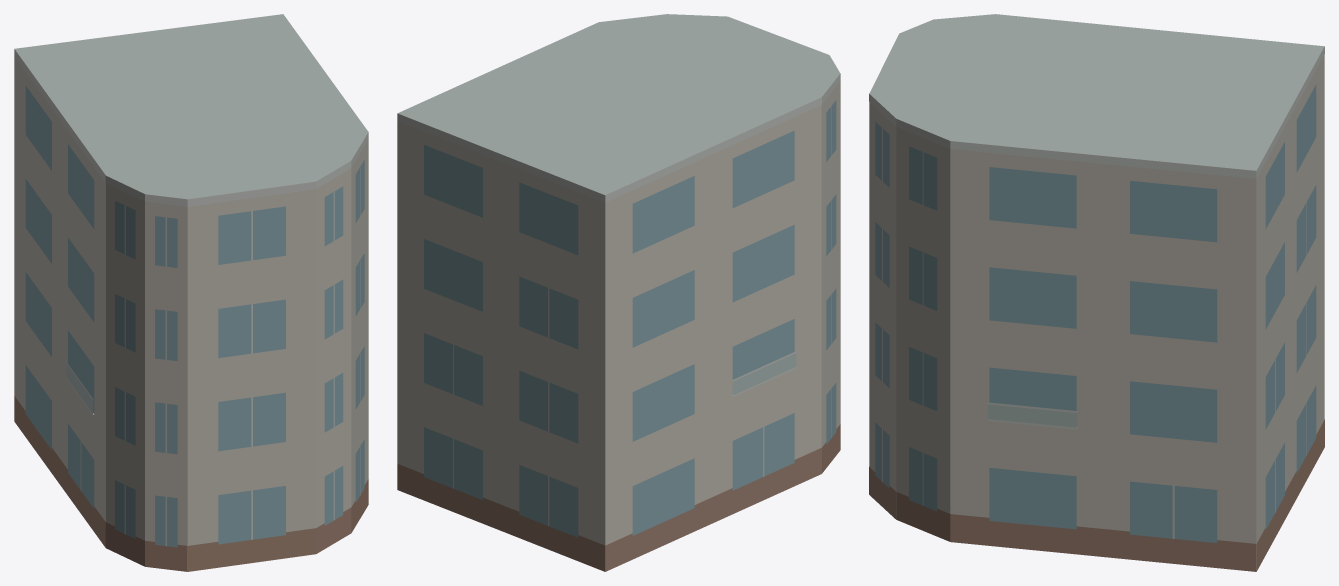
File: residential-9ff998bb-bb70-4db5-a631-146997d6219b.glb
3 views of the same model, side by side, from view 1: azimuth 30°, elevation 25°; view 2: azimuth 150°, elevation 25°; view 3: azimuth 270°, elevation 25° (orthographic). The views are drawn at different scales.
Parts seen in each view (by area): view 1: residential-9ff998bb-bb70-4db5-a631-146997d6219b.tmp; view 2: residential-9ff998bb-bb70-4db5-a631-146997d6219b.tmp; view 3: residential-9ff998bb-bb70-4db5-a631-146997d6219b.tmp.
Part boxes in pixels (<box>): residential-9ff998bb-bb70-4db5-a631-146997d6219b.tmp: <box>14,14,368,571</box>; residential-9ff998bb-bb70-4db5-a631-146997d6219b.tmp: <box>397,14,840,571</box>; residential-9ff998bb-bb70-4db5-a631-146997d6219b.tmp: <box>869,14,1324,571</box>.
Bounding box in the file's own units: 10.24 × 12.2 × 12.57.
